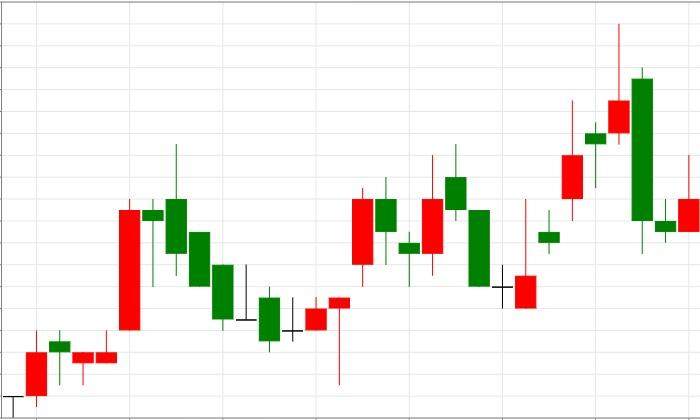shooting_star_fall: (514, 23, 630, 308)
